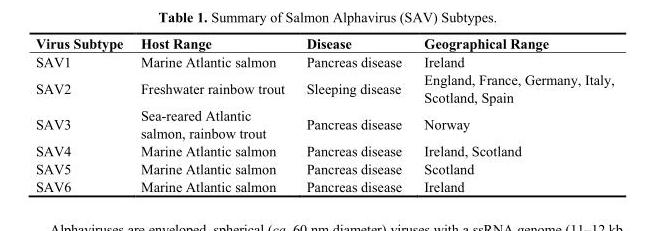table: (34, 35, 613, 194)
table column: (412, 35, 613, 194), (131, 35, 294, 194), (294, 35, 412, 194), (34, 35, 131, 194)
table column header: (34, 35, 613, 52)
table row: (34, 105, 613, 141), (34, 70, 613, 105), (34, 52, 613, 70), (34, 141, 613, 159), (34, 159, 613, 177), (34, 35, 613, 52), (34, 177, 613, 194)
